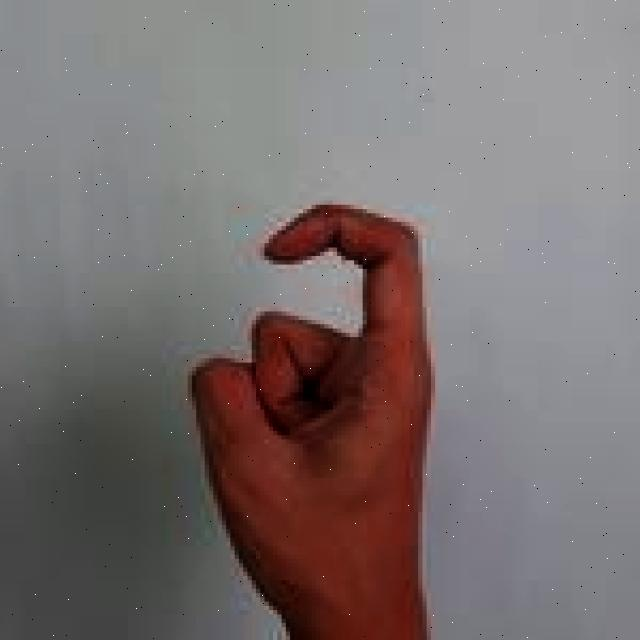X: (182, 199, 440, 640)
